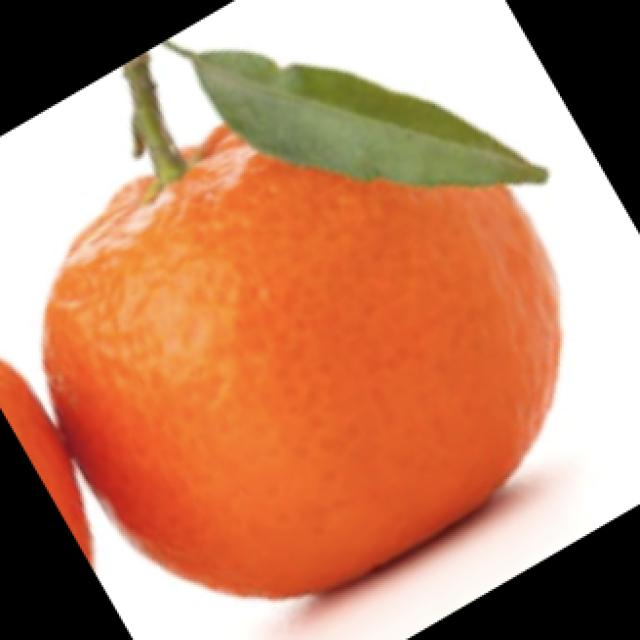matang: (47, 130, 568, 589), (0, 357, 92, 556)
